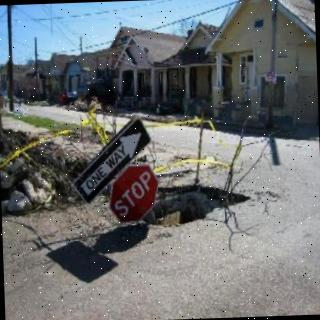pothole: (141, 185, 251, 225)
